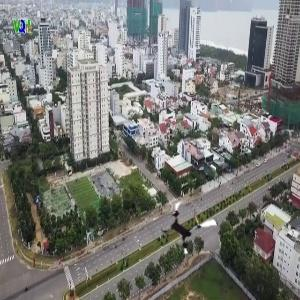drone: (160, 199, 220, 259)
